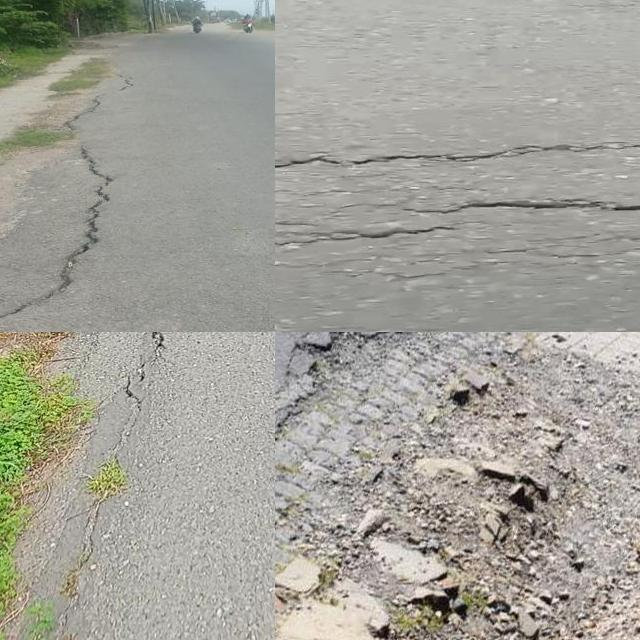Melintang: (275, 128, 640, 182), (398, 178, 640, 228)
Memanjang: (0, 81, 143, 332)
Pinggir: (275, 332, 640, 640), (0, 332, 183, 450)
